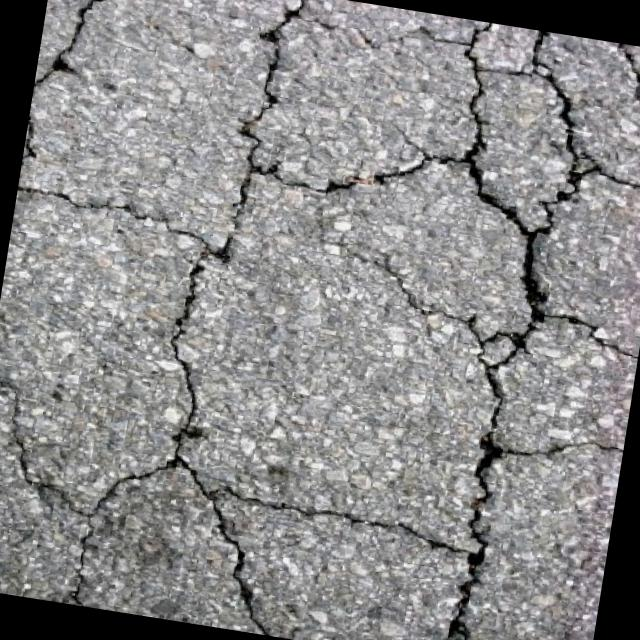crack: (413, 226, 566, 640), (432, 20, 640, 254), (196, 0, 309, 271), (142, 258, 244, 498), (23, 0, 153, 178), (201, 481, 475, 558), (250, 123, 446, 212), (0, 370, 100, 513), (325, 239, 475, 324), (64, 460, 144, 611), (194, 516, 286, 635), (15, 182, 203, 240), (533, 311, 639, 359), (534, 428, 622, 472)
